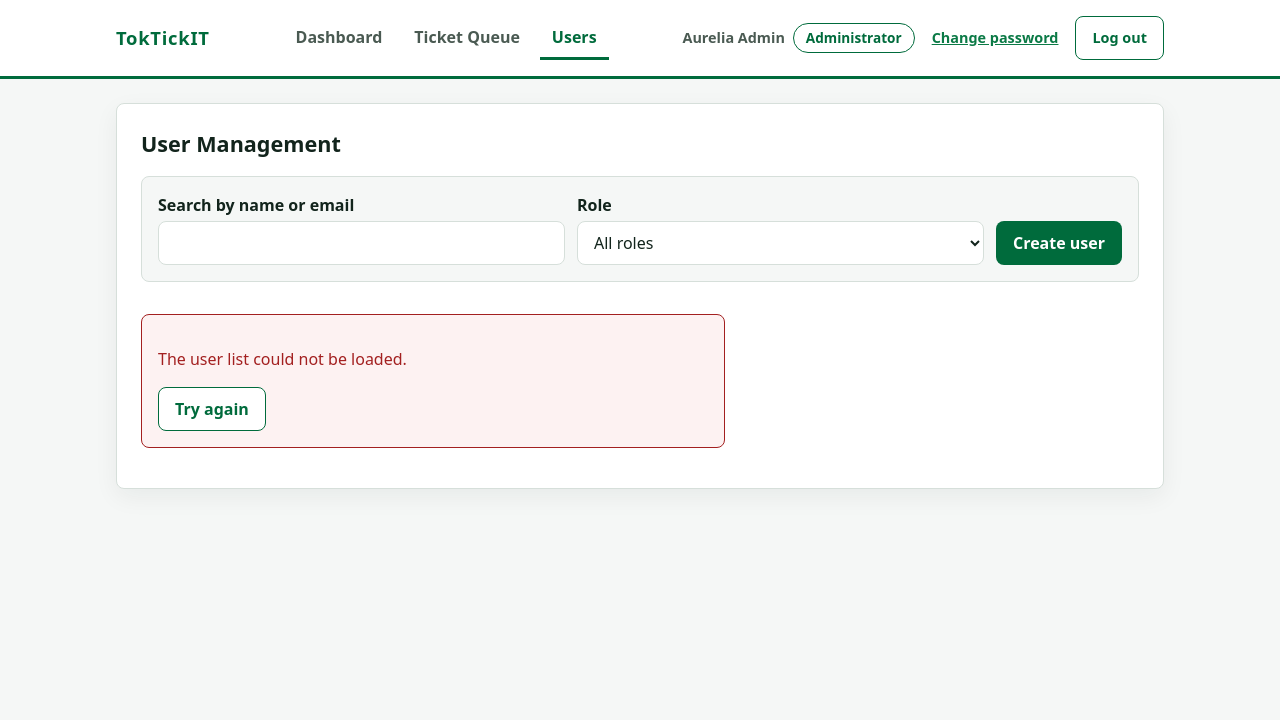
it: User Management — the list › offers a retry on failure and recovers on it
expect the heading "User Management" is shown: met, box [141,129,341,158]
expect the message shows "could not be loaded": met, box [158,348,407,370]
Step 1. Click the button "Try again" → (212,409), box [158,387,266,431]
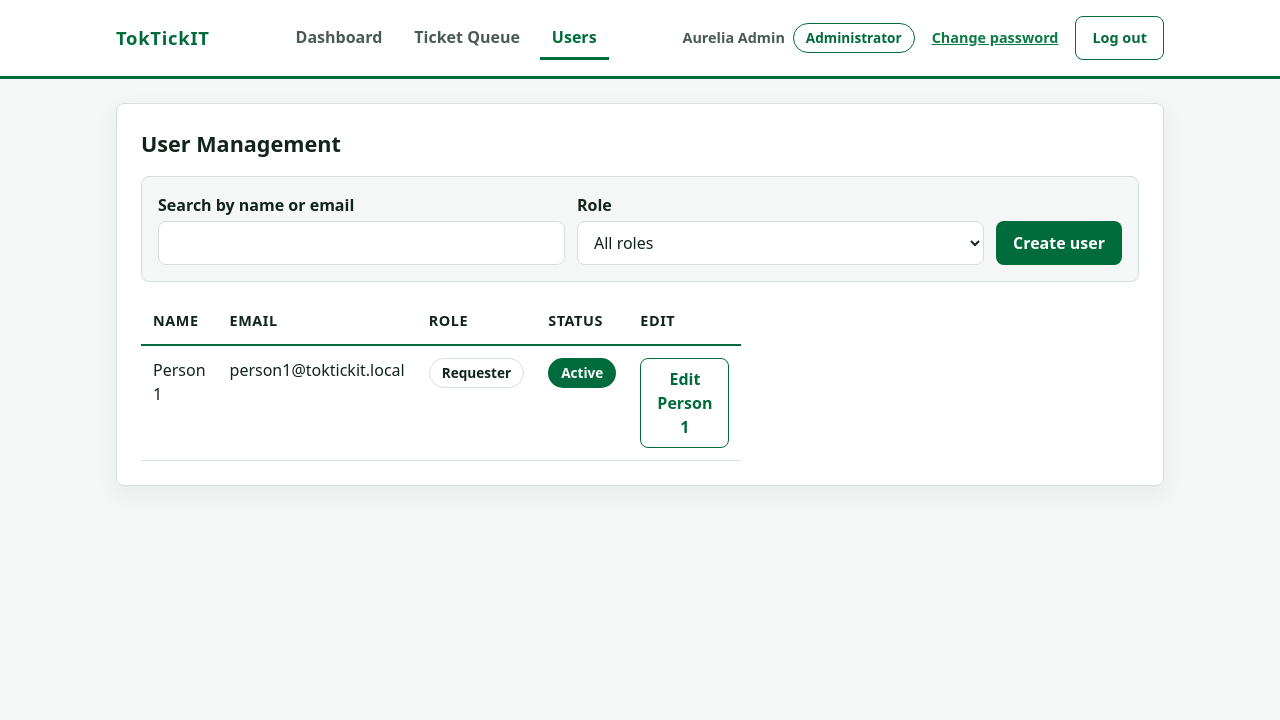
expect the text "person1@toktickit.local" is shown: met, box [218,346,417,460]
